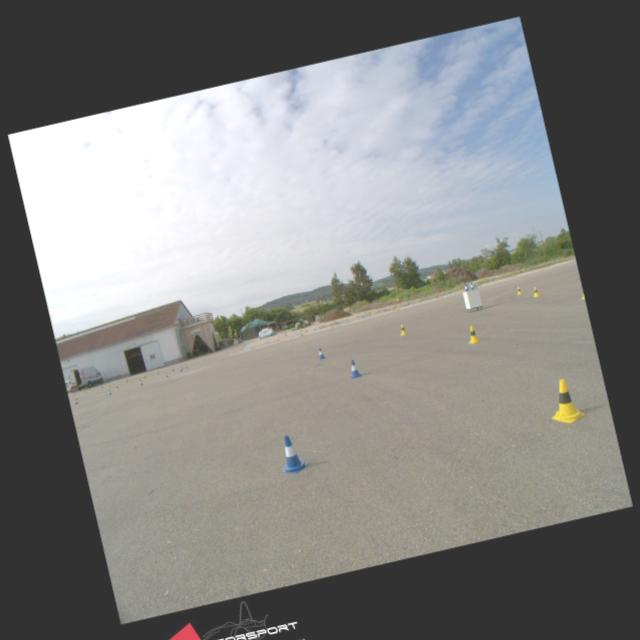blue_cone: (274, 432, 310, 476), (346, 358, 360, 379), (316, 347, 324, 359), (463, 282, 469, 292), (468, 281, 474, 290)
yellow_cone: (544, 375, 586, 426), (465, 323, 480, 343), (398, 322, 408, 334), (530, 285, 540, 296), (514, 285, 522, 294)
